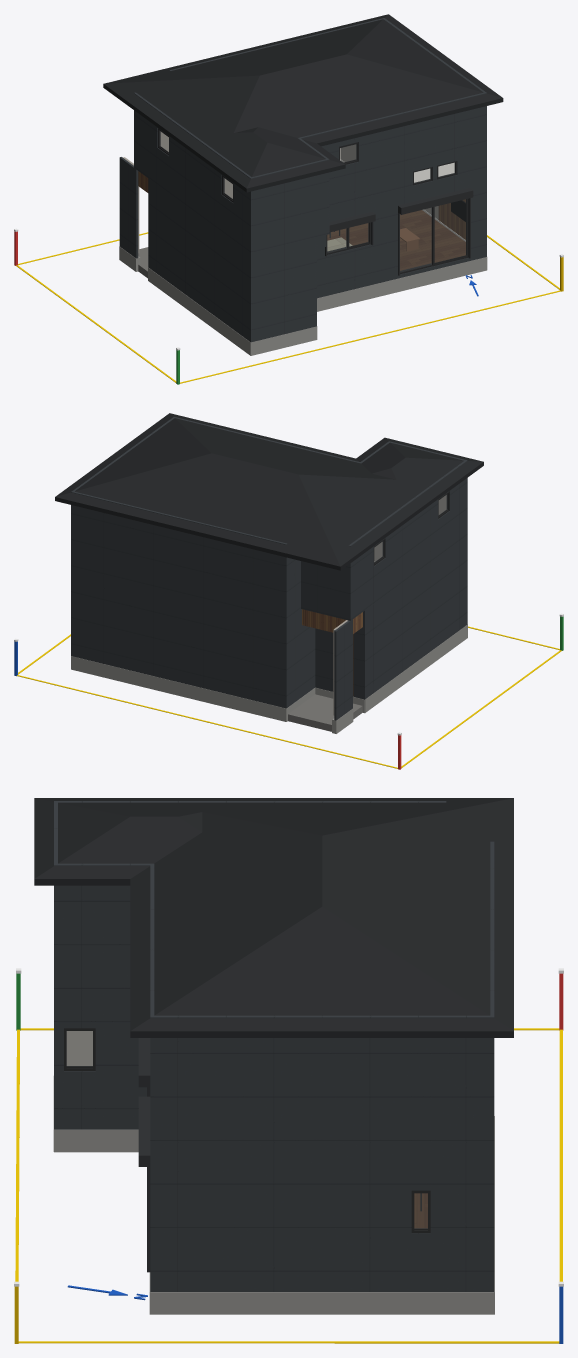
The model's file is A_22_flat.glb.
3 renders of one model, top to bottom at view 1: azimuth 30°, elevation 25°; view 2: azimuth 150°, elevation 25°; view 3: azimuth 270°, elevation 25°, orthographic. The views are drawn at different scales.
Parts seen in each view (by area): view 1: siding, roof, found, glass, floor, shutter, frame, lotline, wall, accent; view 2: siding, roof, found, lotline, tile, woodceil, wall; view 3: siding, roof, found, lotline, shutter, glass, wall, frame.
Boxes of the visible parts, bbox=[...] form: siding: bbox=[119, 18, 486, 342]; roof: bbox=[103, 14, 503, 192]; found: bbox=[119, 246, 487, 355]; glass: bbox=[160, 132, 465, 271]; floor: bbox=[327, 210, 465, 270]; shutter: bbox=[325, 188, 473, 275]; frame: bbox=[158, 128, 468, 274]; lotline: bbox=[16, 232, 560, 383]; wall: bbox=[123, 131, 438, 253]; accent: bbox=[438, 199, 465, 239]; siding: bbox=[71, 417, 467, 720]; roof: bbox=[55, 413, 483, 570]; found: bbox=[71, 624, 467, 733]; lotline: bbox=[17, 626, 561, 768]; tile: bbox=[288, 694, 362, 731]; woodceil: bbox=[302, 609, 362, 633]; wall: bbox=[333, 495, 446, 715]; siding: bbox=[54, 801, 494, 1291]; roof: bbox=[34, 798, 513, 1037]; found: bbox=[53, 1076, 494, 1314]; lotline: bbox=[15, 1028, 562, 1343]; shutter: bbox=[138, 1038, 150, 1272]; glass: bbox=[67, 1031, 427, 1227]; wall: bbox=[66, 1031, 92, 1065]; frame: bbox=[64, 1028, 430, 1233].
Size of the model in its own units: 14.14 by 7.01 by 10.42.
Materials: 31 (6 with a texture image).
